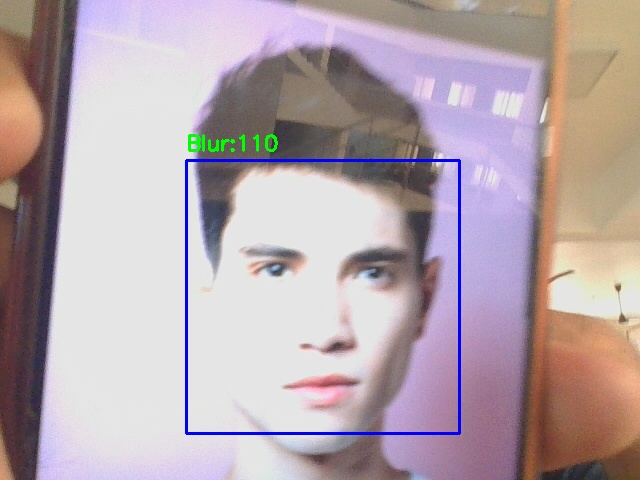fake: (186, 160, 459, 433)
